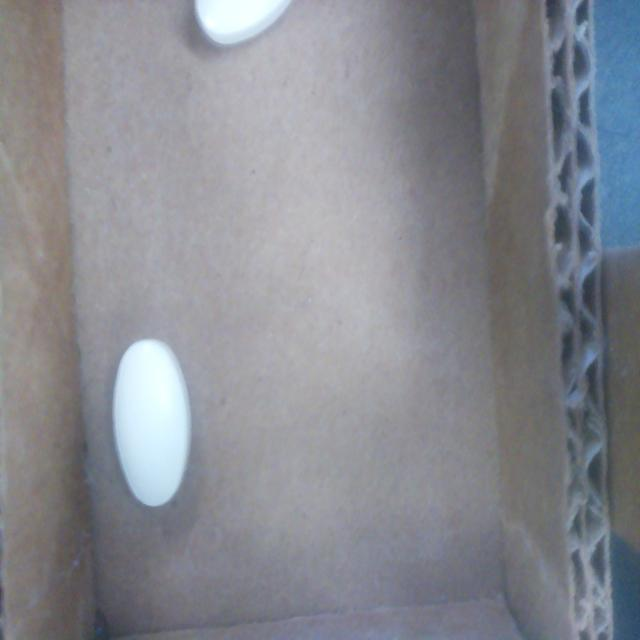pill: (113, 340, 190, 505), (194, 0, 292, 46)
